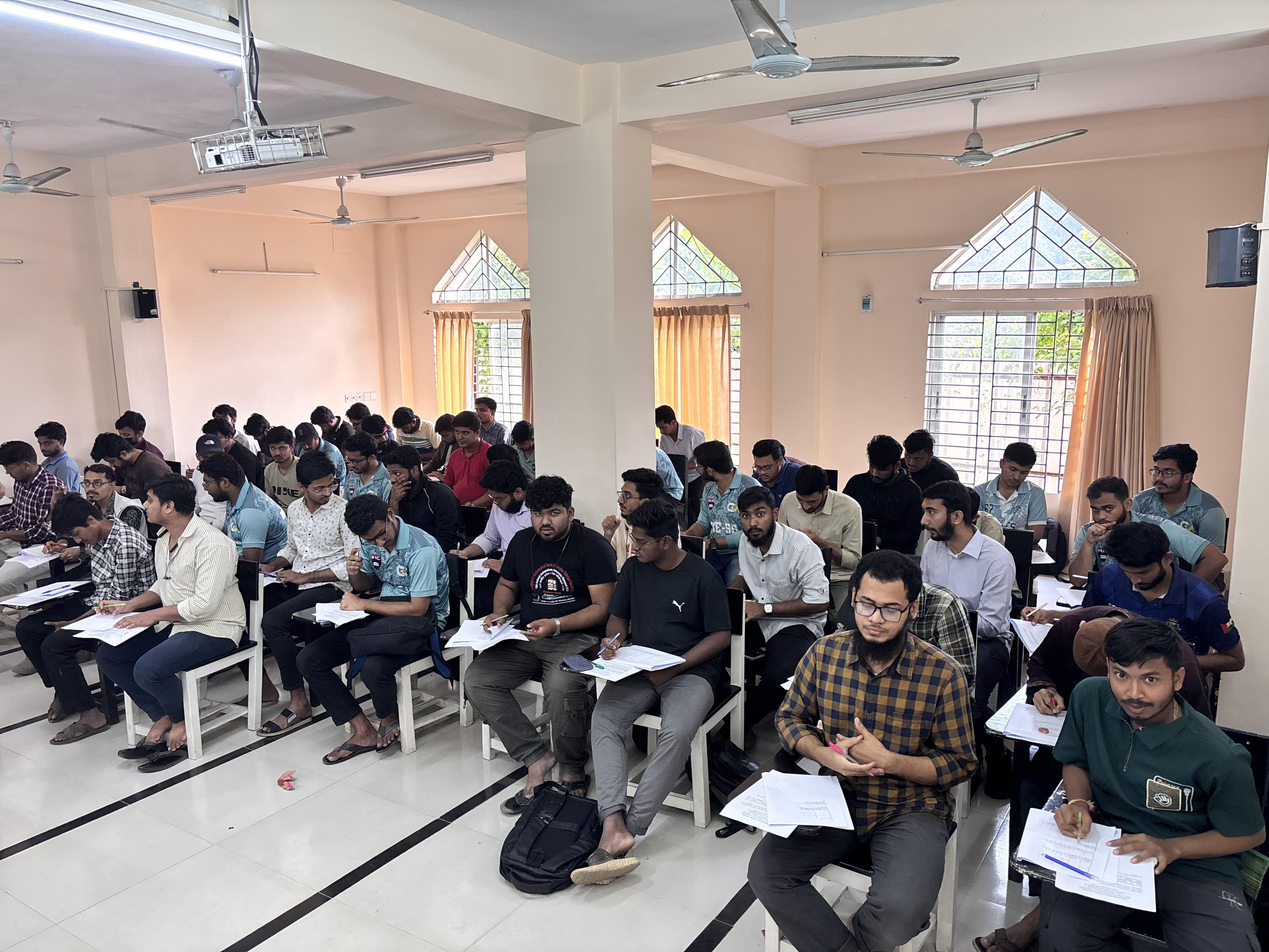copying: (601, 498, 712, 719), (271, 459, 343, 597)
no_cheating: (1044, 620, 1233, 925), (776, 548, 938, 850), (468, 477, 582, 676), (130, 480, 231, 670), (1090, 523, 1214, 667), (20, 496, 123, 598), (848, 429, 915, 531), (1145, 434, 1213, 528), (987, 437, 1050, 538), (191, 451, 266, 535), (778, 463, 855, 540), (379, 444, 449, 524), (1, 435, 47, 541), (1075, 471, 1147, 536), (30, 418, 85, 481), (92, 428, 156, 481), (605, 463, 658, 524), (452, 408, 488, 492), (899, 425, 942, 493), (341, 431, 386, 492), (78, 460, 132, 507), (746, 437, 795, 483), (655, 404, 692, 461), (388, 400, 430, 443), (261, 429, 300, 475), (306, 400, 338, 435), (472, 391, 499, 427)
side_talking: (912, 480, 989, 588), (685, 439, 738, 531)
suspicious_moving: (308, 501, 451, 660), (727, 484, 818, 626)
